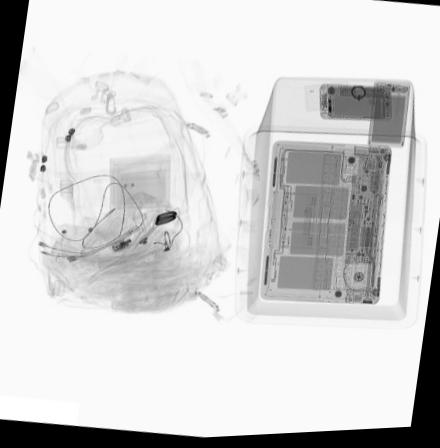Powerbank: (368, 83, 411, 153)
